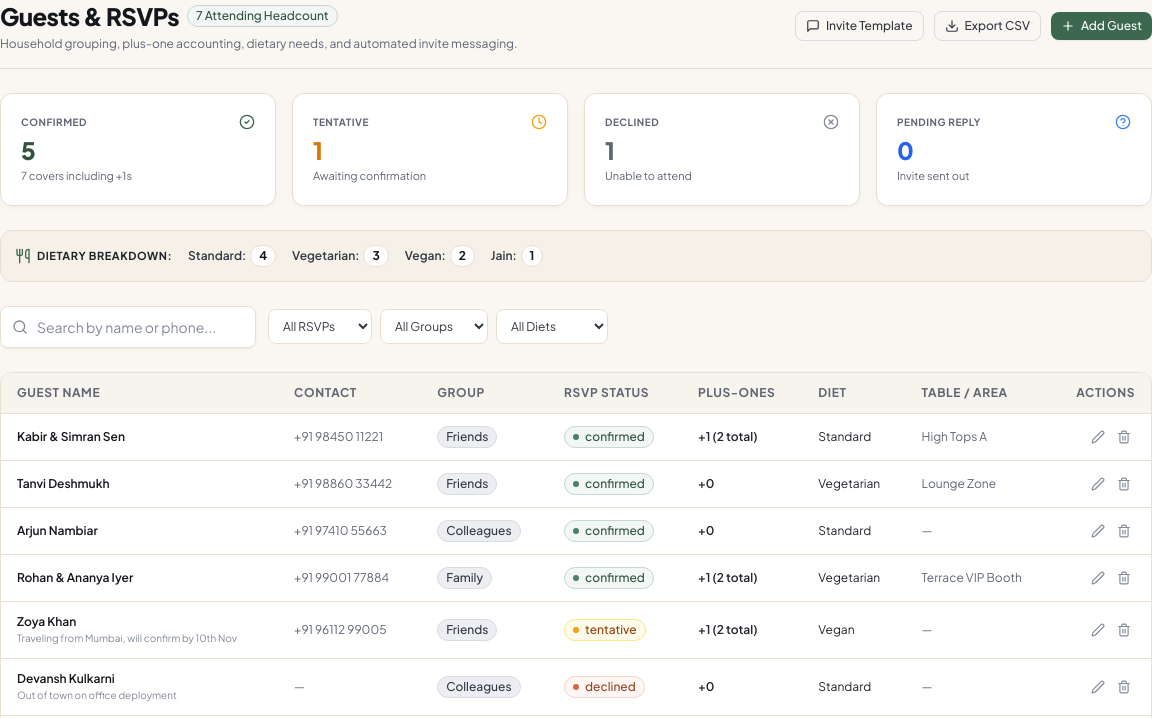
Test case: GuestsPage Feature Tests › opens and closes the Add Guest modal with form inputs
Click the button "Add Guest": (1102, 26) 1051,12 -> 1151,40
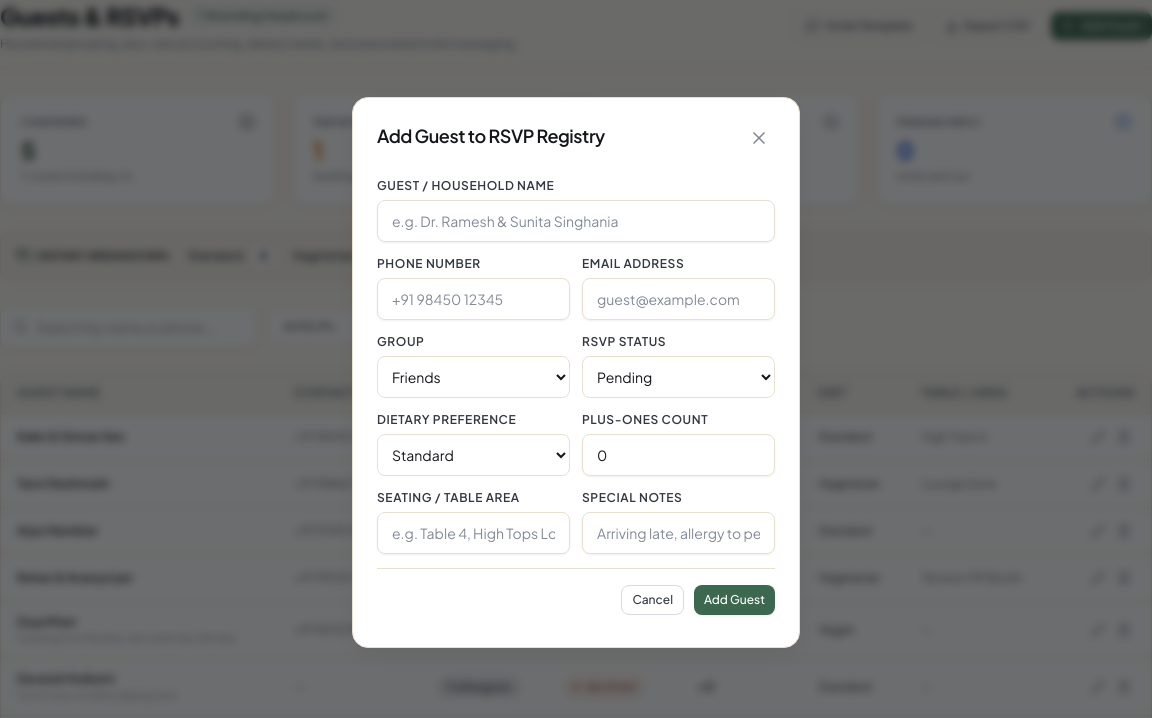
Now the dialog "Add Guest to RSVP Registry" is shown, box 352,96 -> 800,648
In the field labelled "Guest / Household Name": (576, 220) 377,200 -> 775,242, type "Priya Sharma"
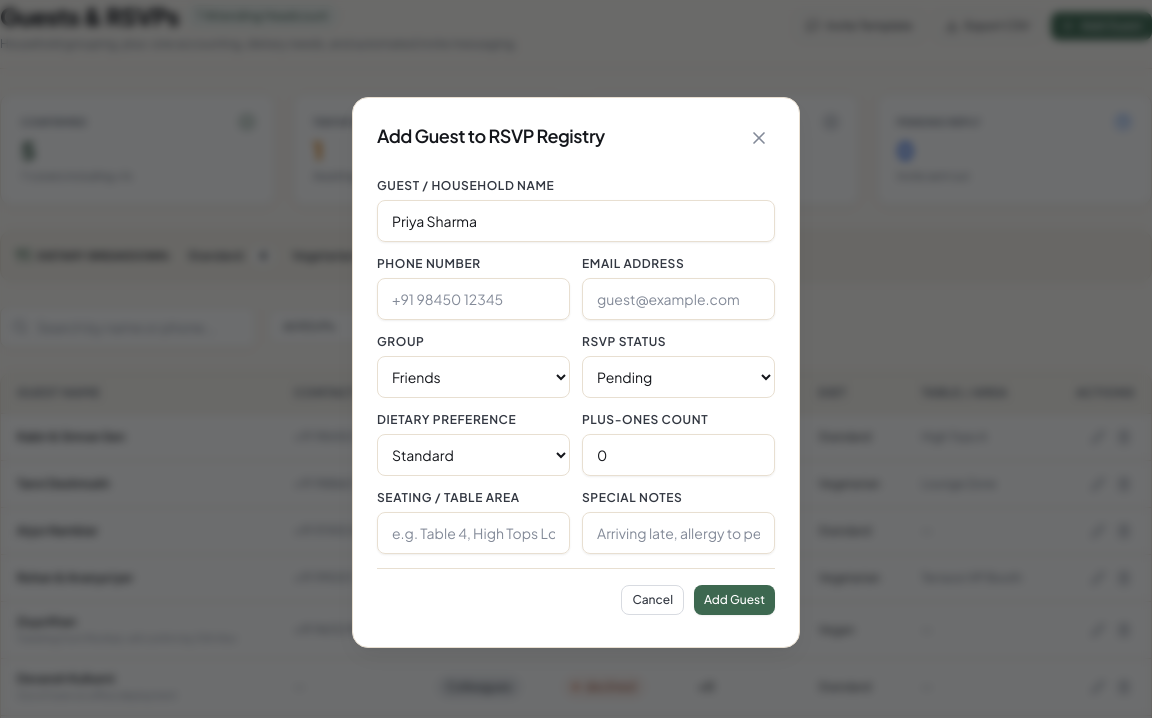
Click the button "Add Guest": (734, 600) 694,584 -> 775,614
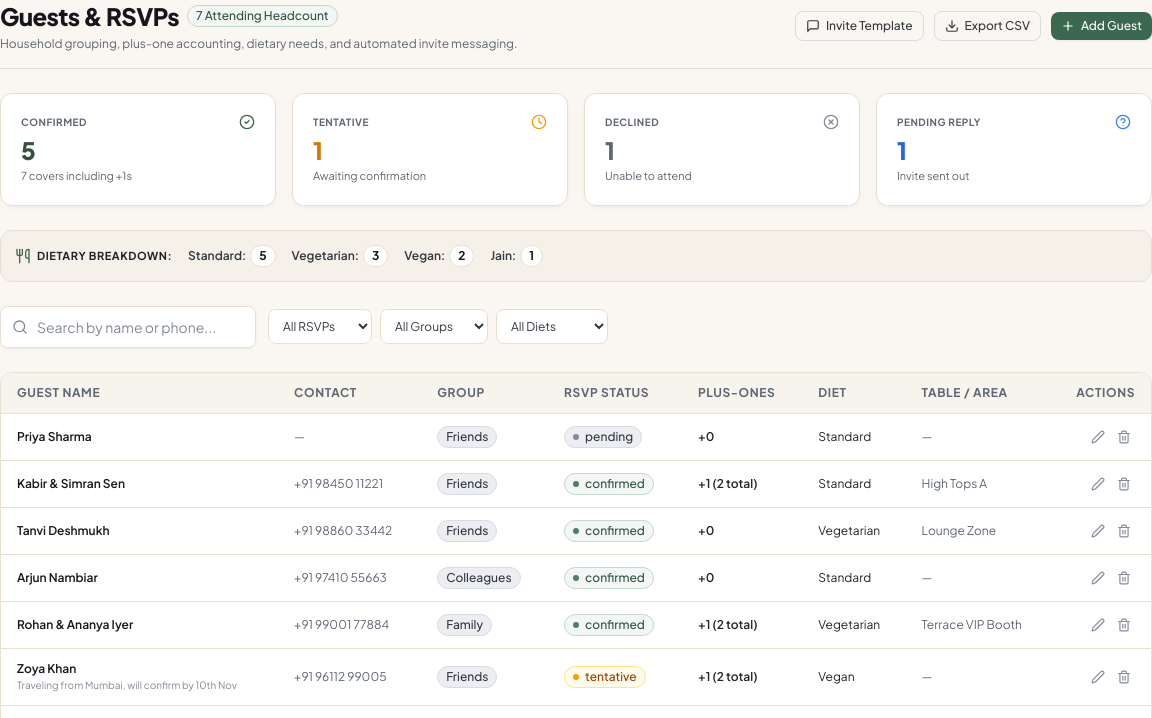
Now the heading "Add Guest to RSVP Registry" is gone
Now the text "Priya Sharma" is shown, box 1,414 -> 278,460
